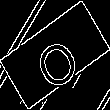O_NW: (27, 21, 83, 89)
